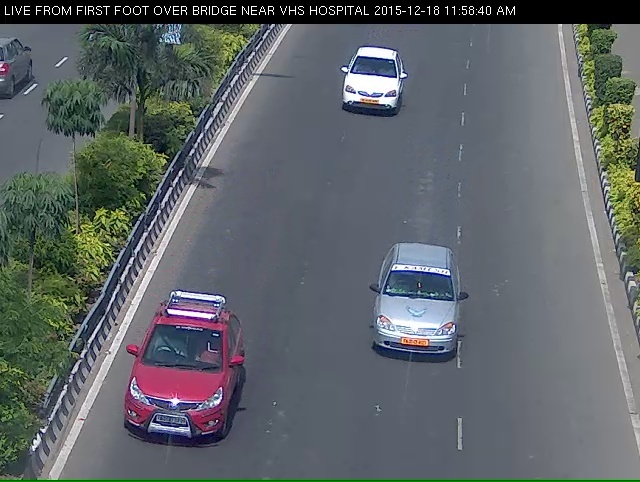Car: (88, 321, 256, 478), (375, 265, 455, 393), (332, 53, 403, 127)
